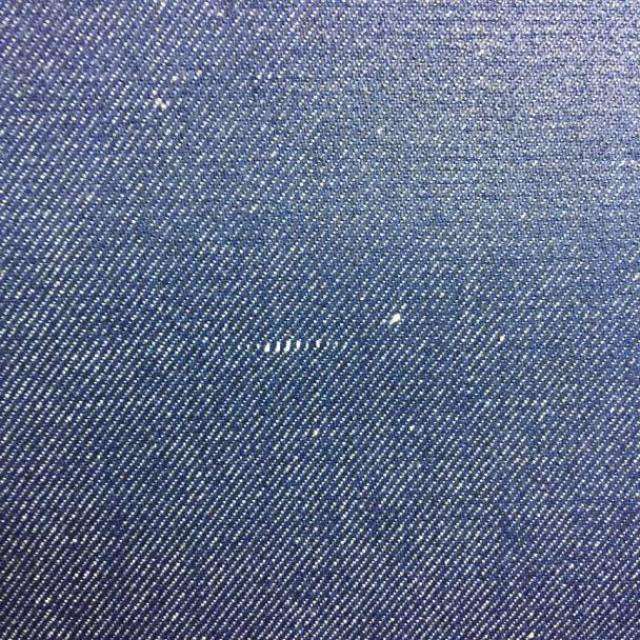Knot: (254, 338, 328, 356), (383, 312, 403, 327)
